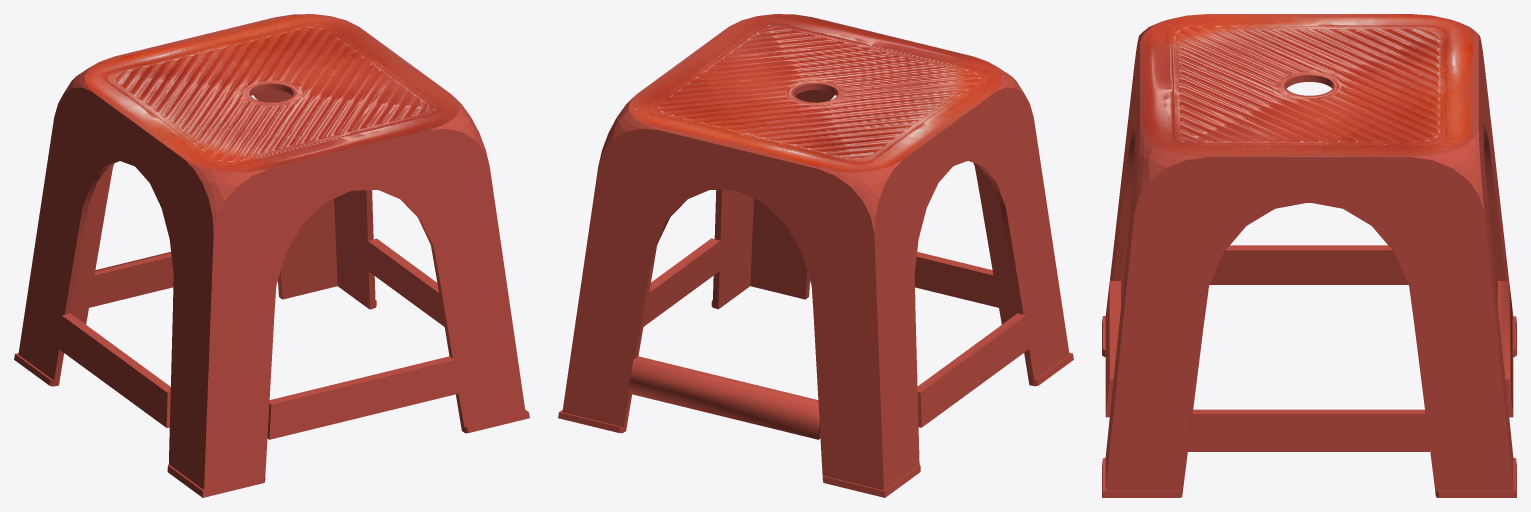
Rendered from MiniChair.fbx.
The picture shows the model from 3 angles, left to right: view 1: azimuth 30°, elevation 25°; view 2: azimuth 150°, elevation 25°; view 3: azimuth 270°, elevation 25°; orthographic projection. The views are drawn at different scales.
Visible parts, largest first — view 1: Cube.002; view 2: Cube.002; view 3: Cube.002.
Boxes of the visible parts, x1=… form: Cube.002: x1=14, y1=14, x2=529, y2=497; Cube.002: x1=558, y1=14, x2=1073, y2=497; Cube.002: x1=1102, y1=14, x2=1516, y2=497.
Bounding box in the file's own units: 28.89 × 25.03 × 28.89.
1 material, 1 textured.
